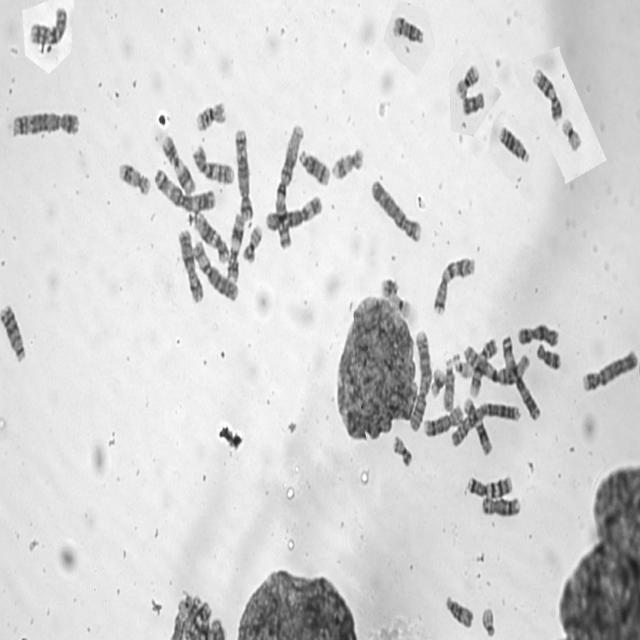A1: (273, 120, 305, 252), (462, 340, 529, 386)
A2: (448, 398, 522, 448), (407, 326, 432, 434)
A3: (499, 333, 542, 422), (152, 163, 217, 214)
B4: (369, 176, 423, 244), (579, 346, 639, 394)
B5: (9, 107, 82, 140), (233, 125, 254, 222)
C10: (190, 141, 236, 186), (26, 9, 69, 45)
C11: (160, 131, 197, 198), (225, 210, 246, 282)
C12: (190, 209, 230, 265), (462, 395, 493, 457)
C6: (192, 238, 240, 304), (264, 192, 324, 233)
C7: (430, 253, 477, 318), (464, 472, 513, 500)
C8: (421, 402, 464, 438), (479, 492, 522, 518)
C9: (468, 335, 498, 399), (531, 65, 563, 122)
D13: (0, 300, 26, 364), (497, 122, 530, 165)
D14: (297, 146, 332, 188), (390, 14, 425, 46)
D15: (443, 590, 474, 630), (442, 355, 456, 413)
E16: (194, 98, 227, 133), (453, 61, 481, 99)
E17: (117, 157, 152, 198), (330, 145, 364, 181)
E18: (534, 339, 562, 372), (460, 89, 486, 117)
F19: (560, 114, 582, 152), (388, 291, 412, 320)
F20: (241, 220, 264, 265), (391, 432, 413, 468)
G21: (428, 364, 446, 398), (378, 273, 400, 299)
G22: (452, 350, 473, 379), (480, 604, 496, 638)
X: (177, 225, 204, 305), (516, 321, 560, 348)
